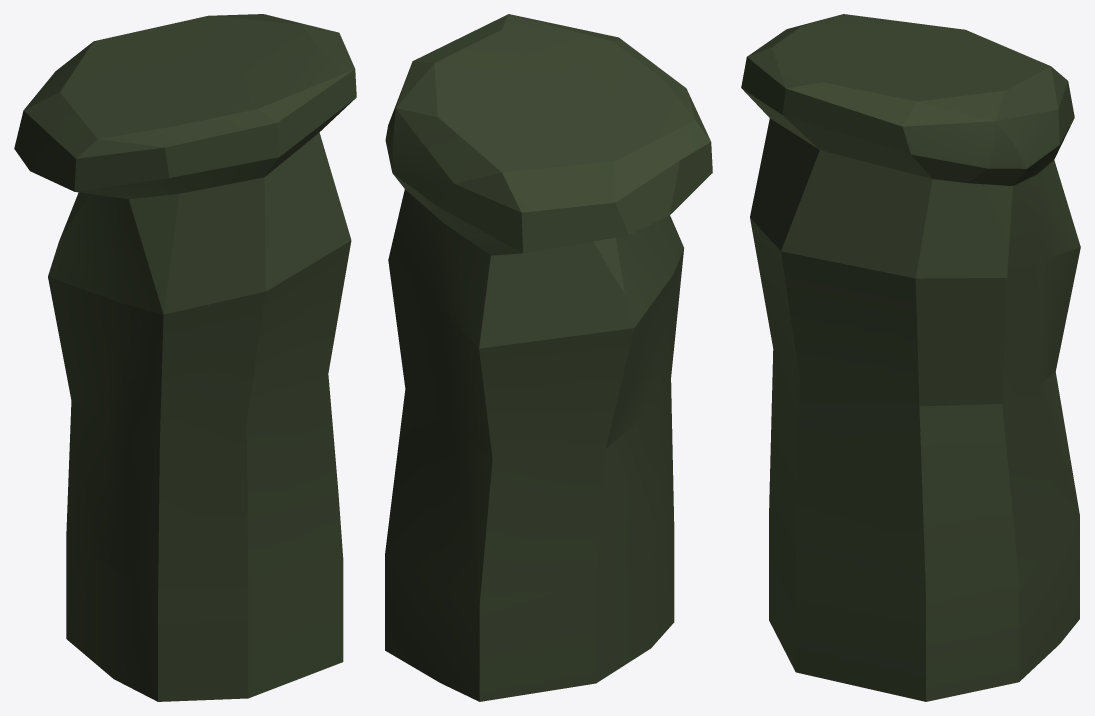
File: EA_Pin_02a.glb
3 views of the same model, side by side, from view 1: azimuth 30°, elevation 25°; view 2: azimuth 150°, elevation 25°; view 3: azimuth 270°, elevation 25° (orthographic). The views are drawn at different scales.
Parts seen in each view (by area): view 1: EA_Pin_02a; view 2: EA_Pin_02a; view 3: EA_Pin_02a.
Boxes of the visible parts, x1=… form: EA_Pin_02a: x1=14, y1=14, x2=356, y2=701; EA_Pin_02a: x1=385, y1=14, x2=712, y2=701; EA_Pin_02a: x1=741, y1=14, x2=1080, y2=701.
Size of the model in its own units: 0.3647 by 0.6835 by 0.3581.
1 material, 1 textured.
